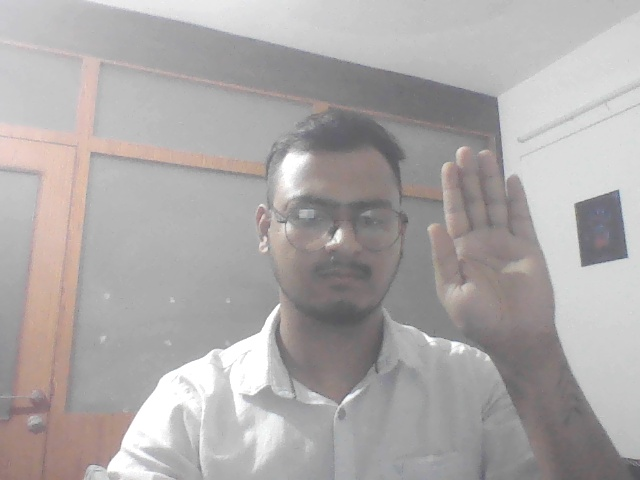Hello: (422, 145, 569, 358)
